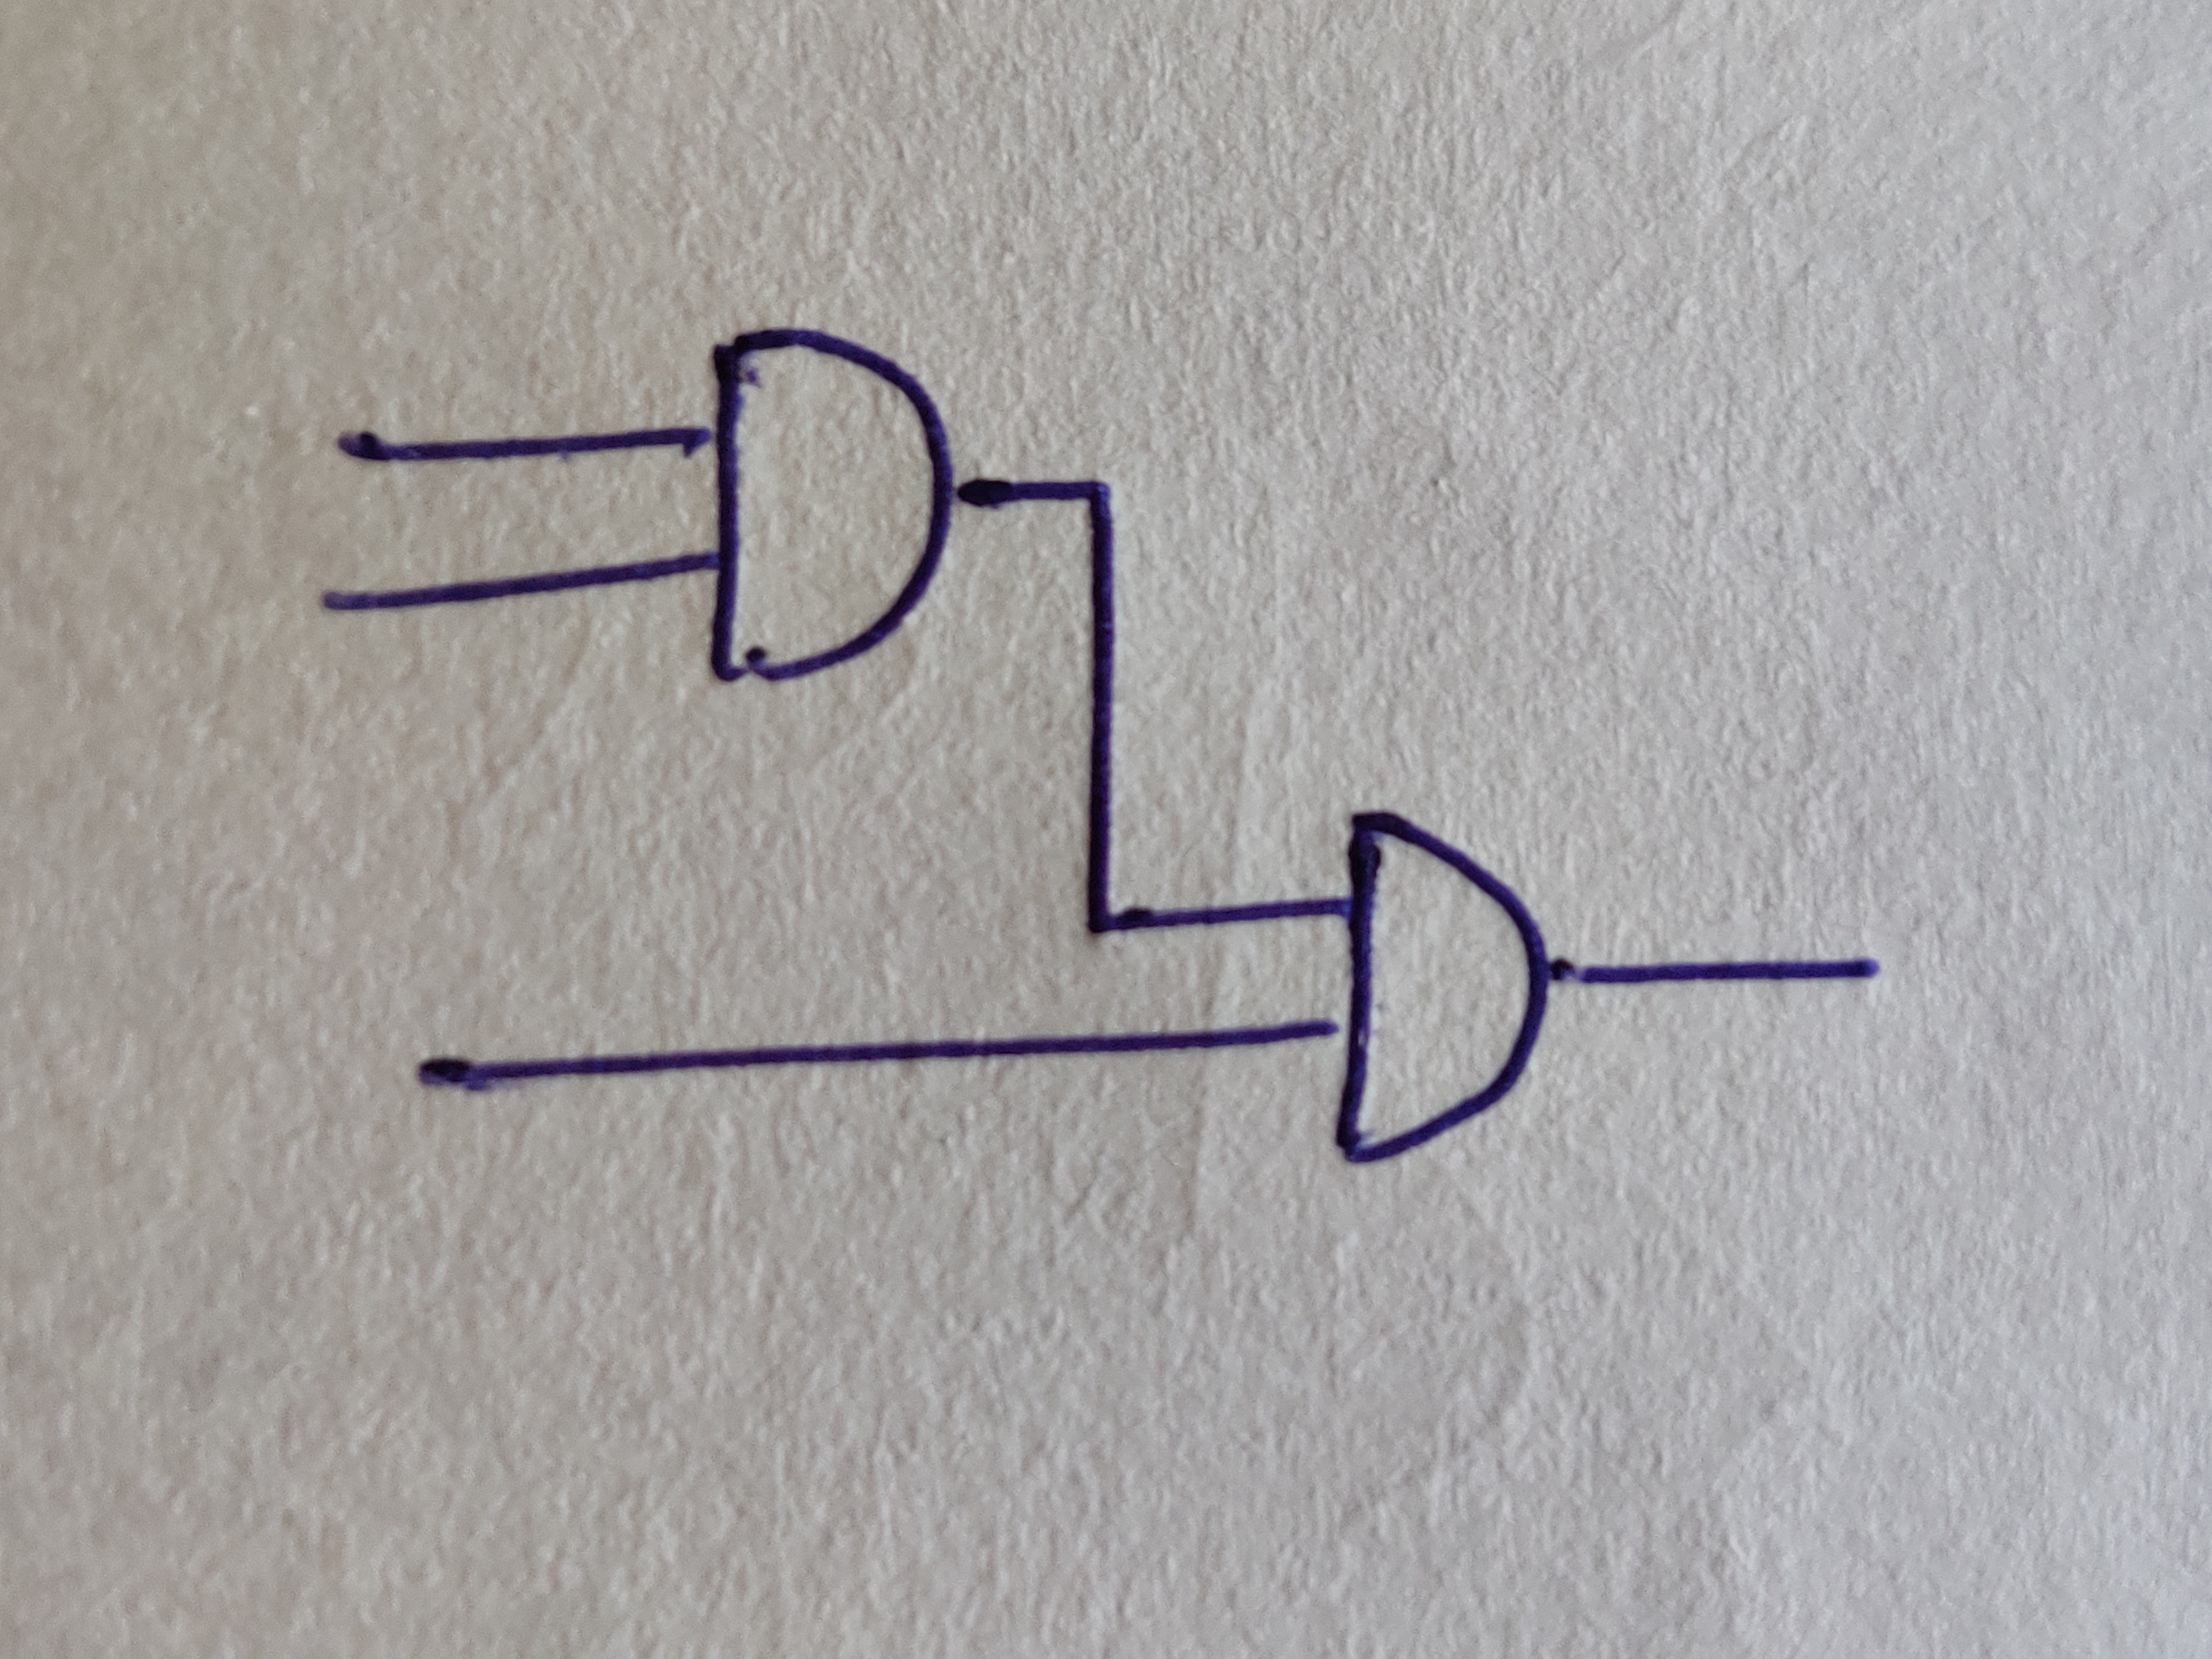and: (709, 328, 951, 683), (1338, 814, 1552, 1162)
